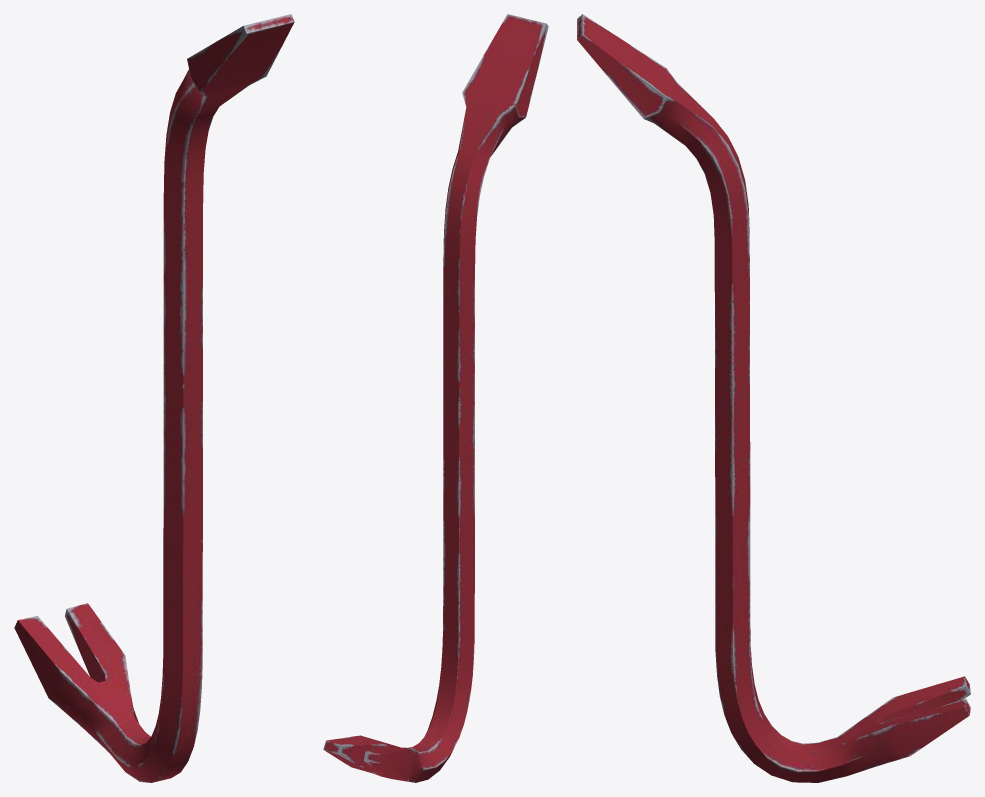
The model's file is Tool_CrowBar.glb.
The picture shows the model from 3 angles, left to right: view 1: azimuth 30°, elevation 25°; view 2: azimuth 150°, elevation 25°; view 3: azimuth 270°, elevation 25°; orthographic projection. The views are drawn at different scales.
Visible parts, largest first — view 1: Tool_CrowBar; view 2: Tool_CrowBar; view 3: Tool_CrowBar.
Boxes of the visible parts, x1,y1,x2,y2 form: Tool_CrowBar: [14, 14, 294, 782]; Tool_CrowBar: [323, 14, 548, 782]; Tool_CrowBar: [577, 14, 970, 782].
Bounding box in the file's own units: 0.0364 × 0.4113 × 0.1947.
Materials: 1 (1 with a texture image).
